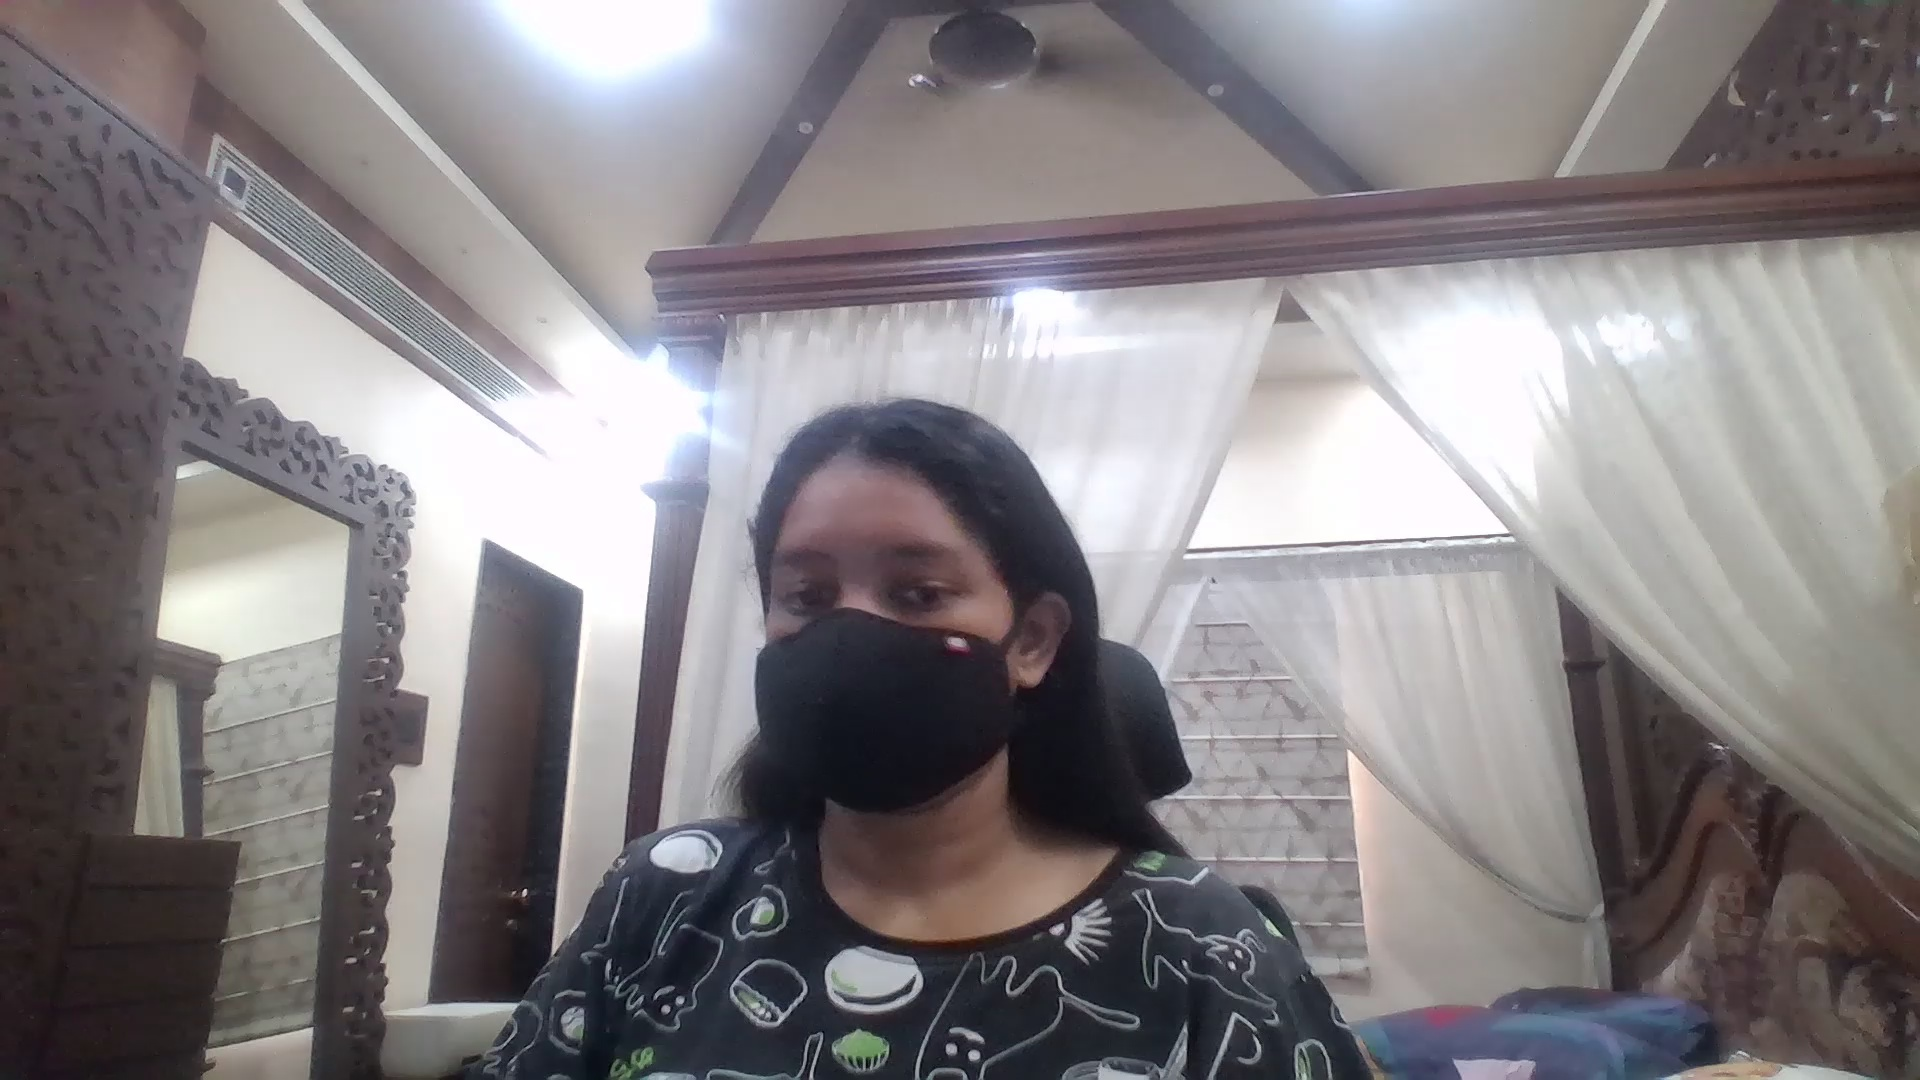Mask: (748, 616, 1017, 816)
